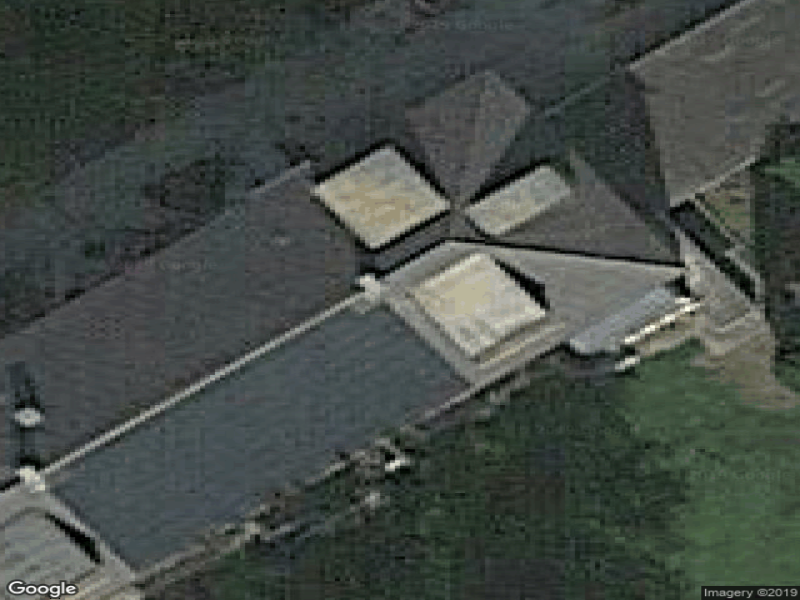pv: (58, 305, 475, 571)
